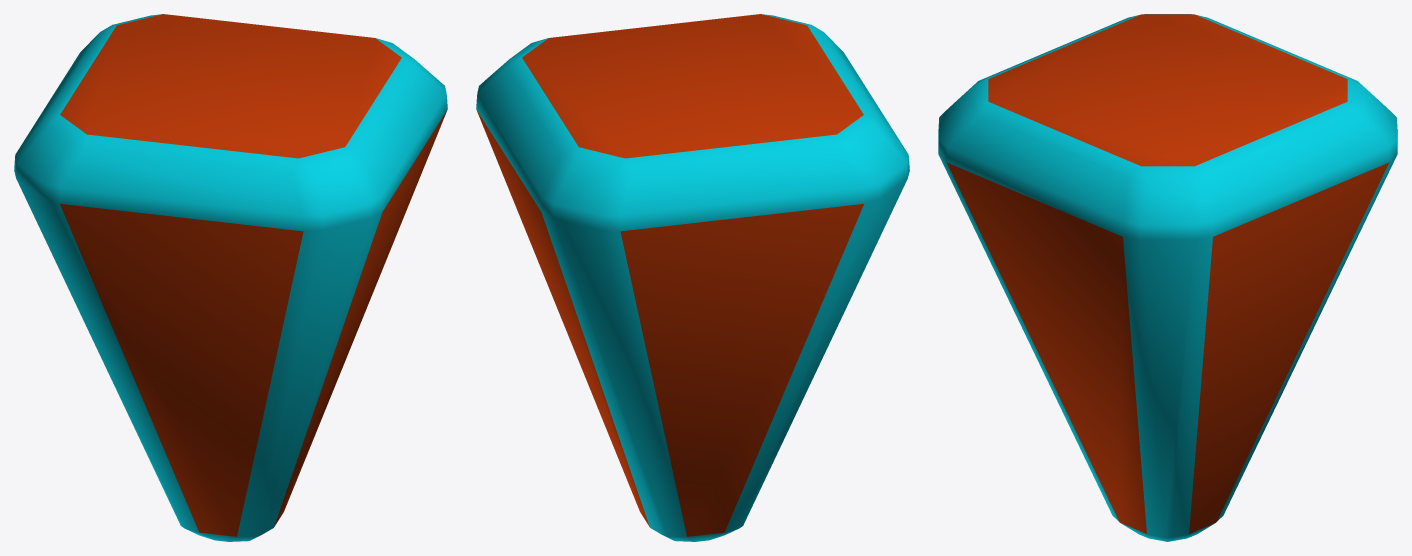
File: questeffects_pointmarker.fbx
The picture shows the model from 3 angles, left to right: view 1: azimuth 30°, elevation 25°; view 2: azimuth 150°, elevation 25°; view 3: azimuth 270°, elevation 25°; orthographic projection.
Visible parts, largest first — view 1: questeffects_pointmarker; view 2: questeffects_pointmarker; view 3: questeffects_pointmarker.
Part boxes in pixels (left/top/right/bottom): questeffects_pointmarker: left=14, top=14, right=447, bottom=541; questeffects_pointmarker: left=476, top=14, right=909, bottom=541; questeffects_pointmarker: left=938, top=14, right=1397, bottom=541.
Bounding box in the file's own units: 1.95 × 2.06 × 1.95.
